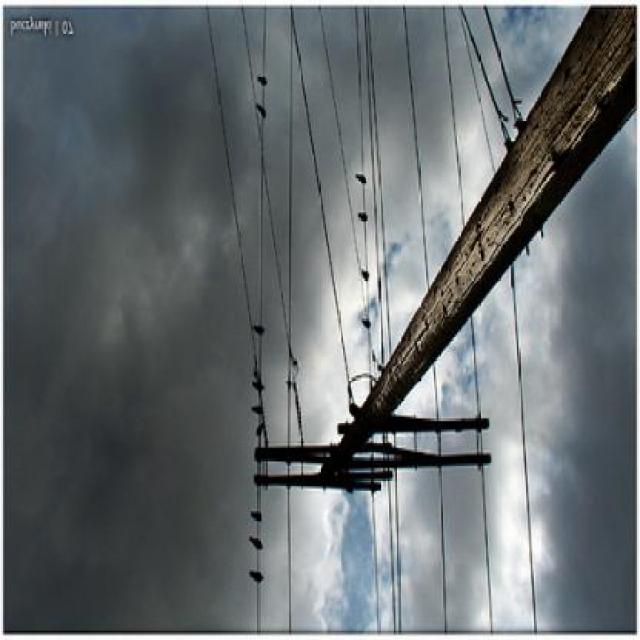pole: (250, 9, 632, 488)
